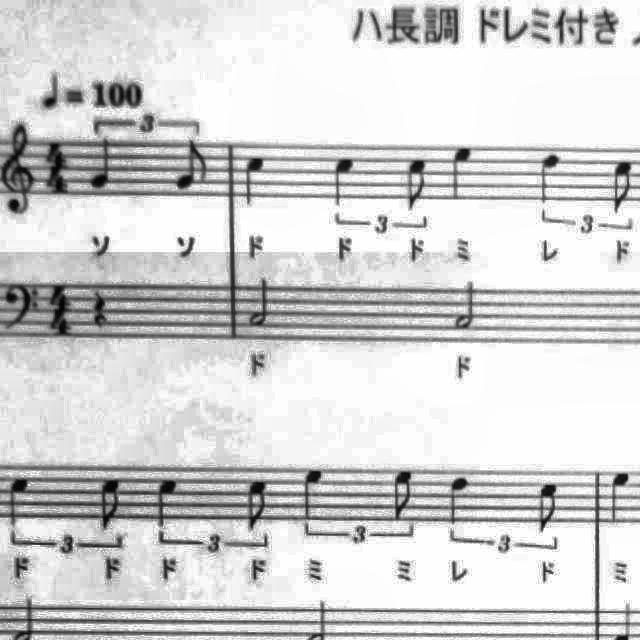Bass-clef: (0, 279, 42, 337)
Eighth-note: (172, 133, 215, 194), (399, 150, 437, 218), (604, 153, 640, 219), (93, 472, 129, 536), (383, 464, 421, 524), (238, 474, 274, 536), (531, 476, 565, 538)
Half-note: (450, 272, 486, 332), (244, 273, 276, 333)
Quarter-note: (294, 462, 332, 534), (443, 140, 481, 207), (237, 150, 273, 213), (0, 470, 36, 532), (150, 471, 186, 532), (534, 146, 568, 210), (442, 470, 478, 530), (328, 149, 362, 211), (604, 469, 636, 529), (86, 137, 118, 196)
Quarter-rest: (85, 284, 114, 332)
Treble-clef: (1, 120, 40, 220)
